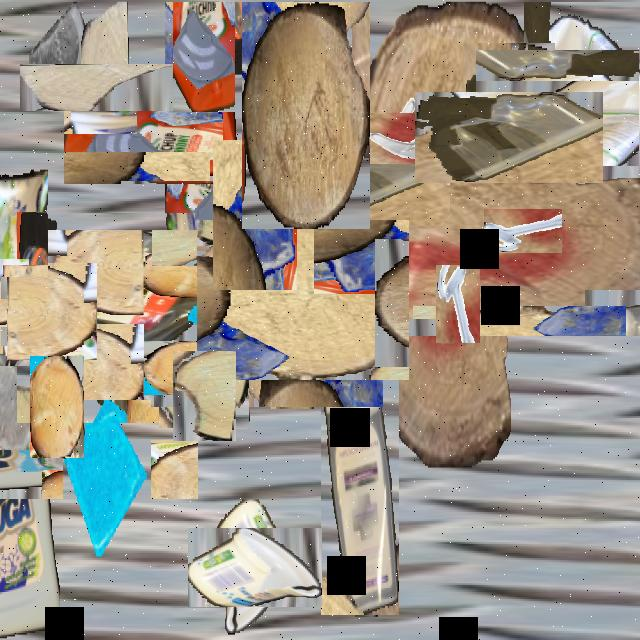glass: (63, 400, 151, 556), (213, 140, 297, 290), (173, 2, 235, 112), (29, 2, 89, 108), (223, 82, 279, 181), (0, 346, 40, 450)
metal: (373, 102, 445, 175), (436, 265, 480, 343)
plastic: (9, 221, 203, 415), (114, 53, 296, 235), (0, 370, 128, 568), (499, 26, 640, 190), (439, 67, 579, 207), (321, 366, 399, 615), (202, 513, 308, 621), (0, 164, 48, 278)
wood: (286, 67, 622, 402), (210, 207, 396, 394), (242, 2, 370, 229), (50, 32, 160, 142), (5, 264, 99, 358), (165, 358, 242, 435), (30, 356, 84, 458), (0, 279, 48, 346)
